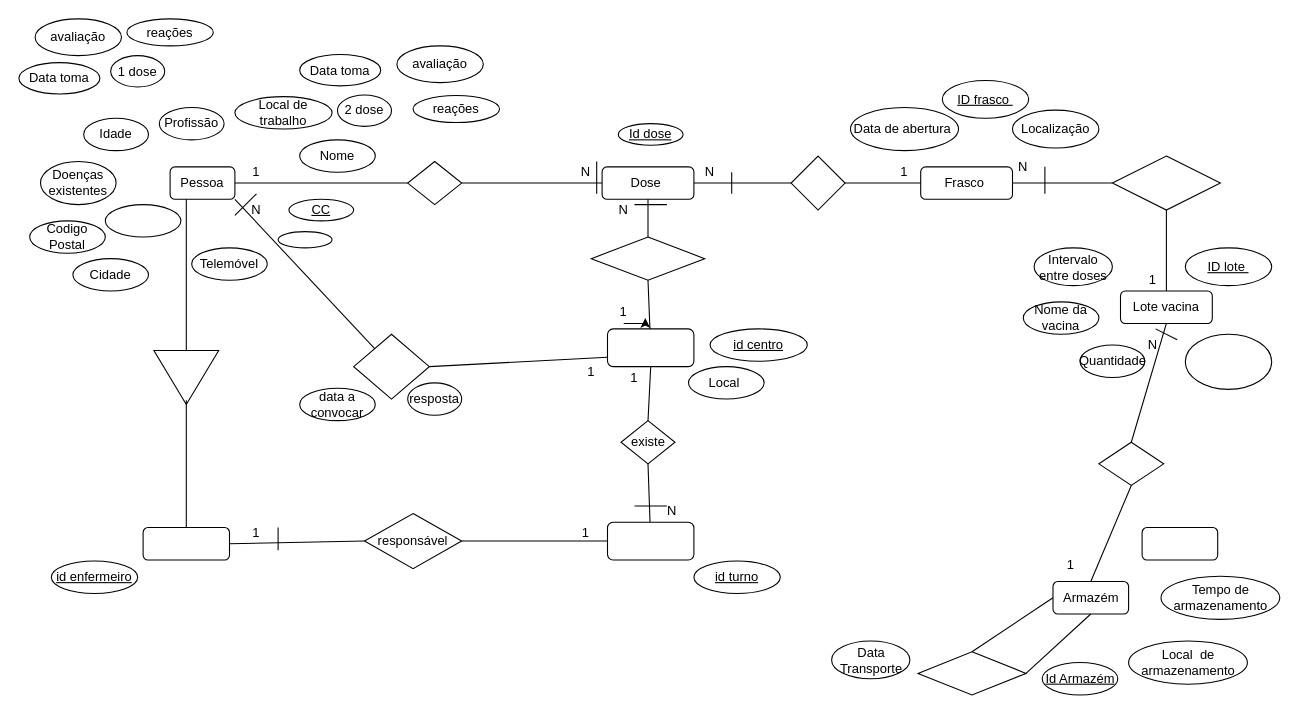
The diagram is 1299 pixels wide and 714 high, and some of its shapes have lost their labels. The box of each missing label's shape, as (x1, y1, x2, y2) in pixels:
administrada: (590, 236, 705, 280)
Centro vacinação: (606, 328, 694, 367)
Convoca: (353, 333, 429, 399)
email: (277, 231, 332, 248)
Enfermeiro: (142, 526, 230, 560)
Is A: (153, 349, 219, 404)
local Transporte: (1141, 526, 1218, 560)
Morada: (104, 204, 181, 237)
Pertencente: (1111, 155, 1220, 210)
provém: (1098, 441, 1164, 485)
retirada: (790, 155, 845, 210)
Tempo máximo de abertura: (1184, 333, 1272, 389)
Toma: (407, 160, 462, 205)
Transportada: (917, 651, 1026, 695)
Turno de vacinação: (606, 521, 694, 560)
